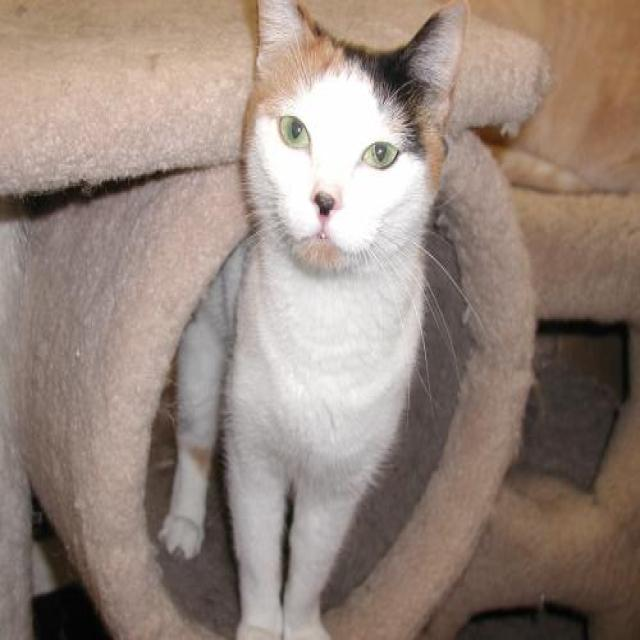Cats: (154, 0, 472, 638)
